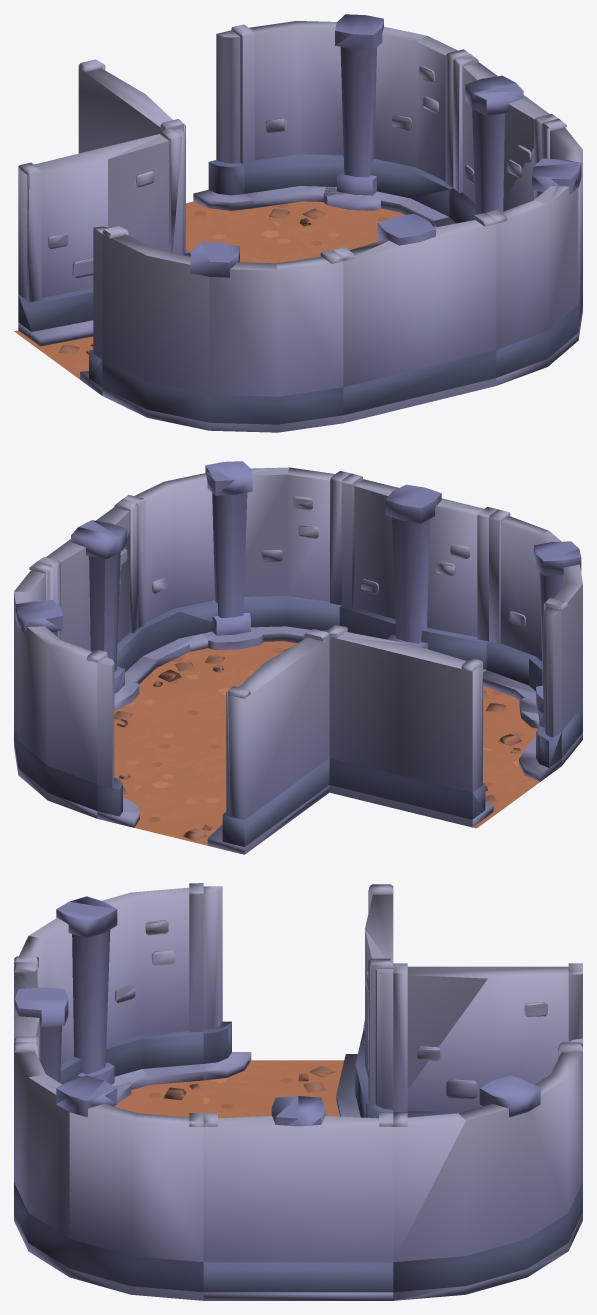
The model's file is room-corner.fbx.
The picture shows the model from 3 angles, top to bottom: view 1: azimuth 30°, elevation 25°; view 2: azimuth 150°, elevation 25°; view 3: azimuth 270°, elevation 25°; orthographic projection. The views are drawn at different scales.
Parts seen in each view (by area): view 1: room-corner; view 2: room-corner; view 3: room-corner.
Part boxes in pixels (left/top/right/bottom): room-corner: left=14, top=14, right=582, bottom=432; room-corner: left=14, top=461, right=582, bottom=854; room-corner: left=14, top=883, right=582, bottom=1300.
Bounding box in the file's own units: 1200 × 423 × 1200.
